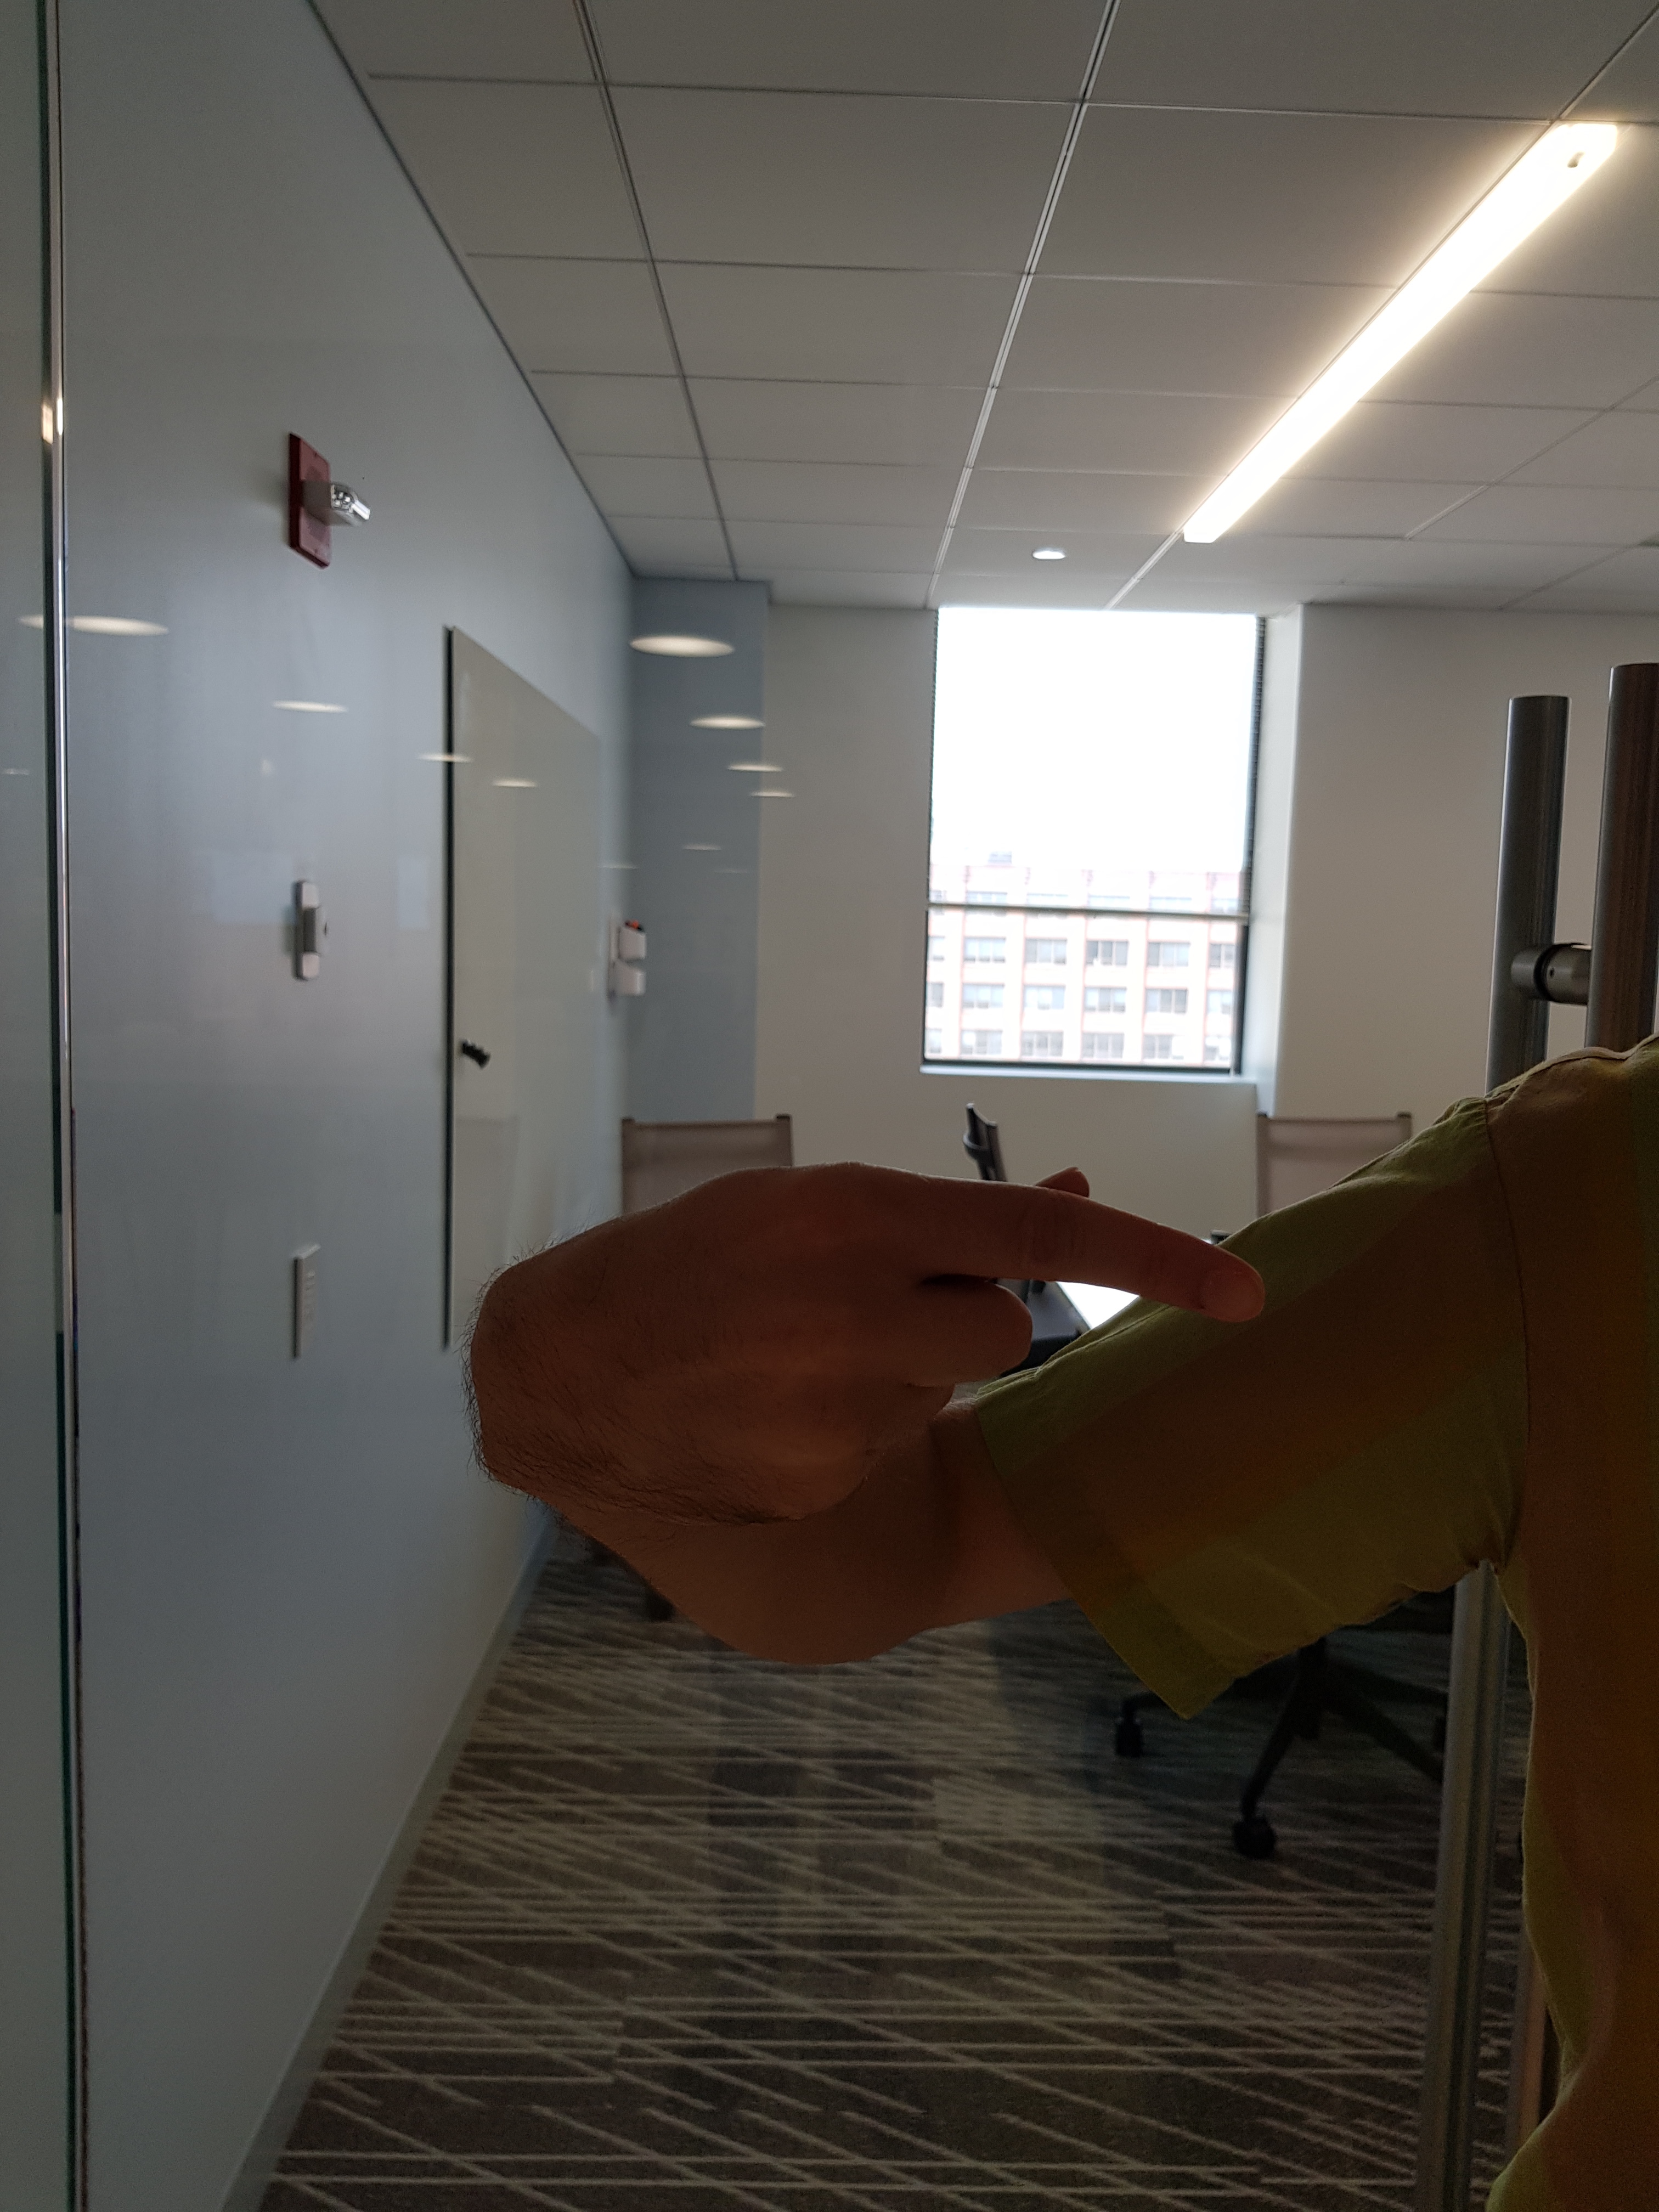g: (437, 1134, 1279, 1550)
